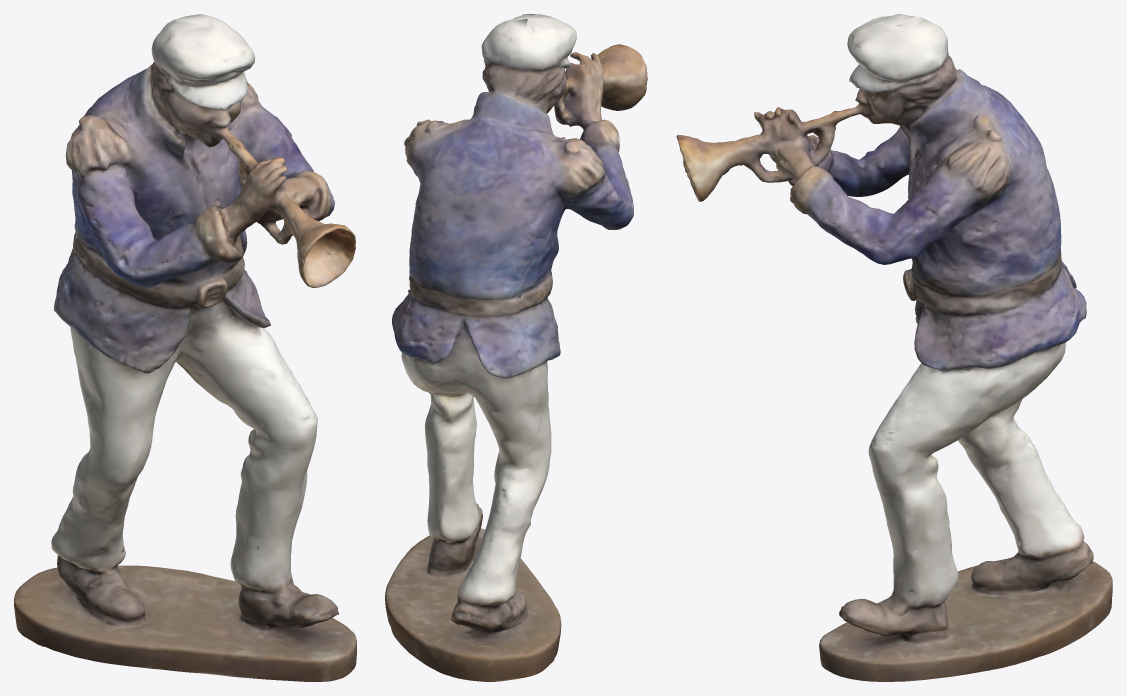
File: khanna-rajinder-kaka-horn-walae.glb
The picture shows the model from 3 angles, left to right: view 1: azimuth 30°, elevation 25°; view 2: azimuth 150°, elevation 25°; view 3: azimuth 270°, elevation 25°; orthographic projection. The views are drawn at different scales.
Parts seen in each view (by area): view 1: SculptureD_002; view 2: SculptureD_002; view 3: SculptureD_002.
Part boxes in pixels (x1,y1,x2,y2): SculptureD_002: (14, 14, 356, 681); SculptureD_002: (385, 14, 647, 681); SculptureD_002: (676, 14, 1112, 681).
Size of the model in its own units: 0.1961 by 0.5 by 0.3303.
1 material, 1 textured.
